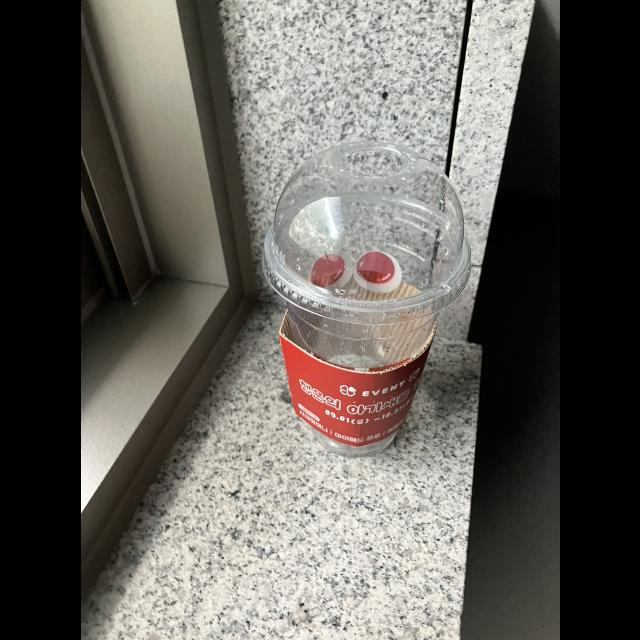plastic_cup: (257, 138, 475, 460)
plastic_cup_lid: (256, 139, 476, 325)
